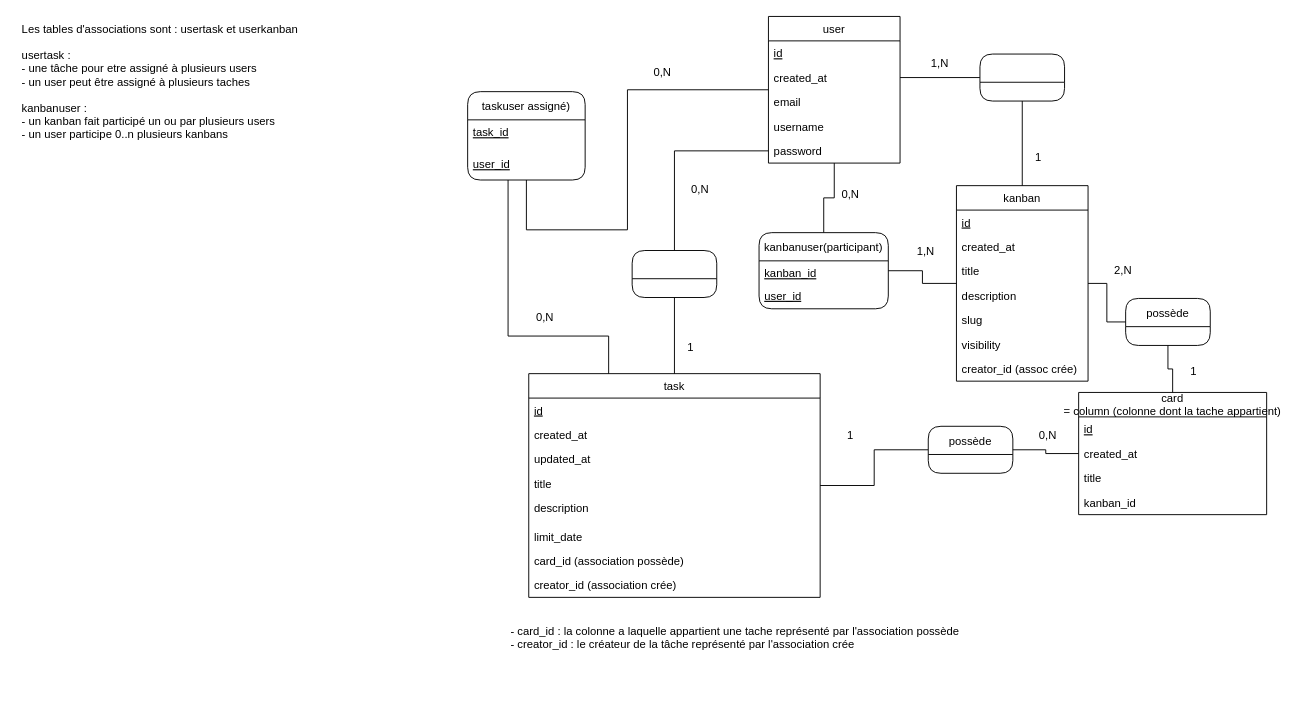
Some shapes in this 1297 by 722 pixel diagram are drawn without their labels. The shapes that lost their labels are listed below. From the top down, each one's centre as x and y in pixels, then its label:
At point (1022, 77): "est crée par".
At point (674, 274): "crée".
